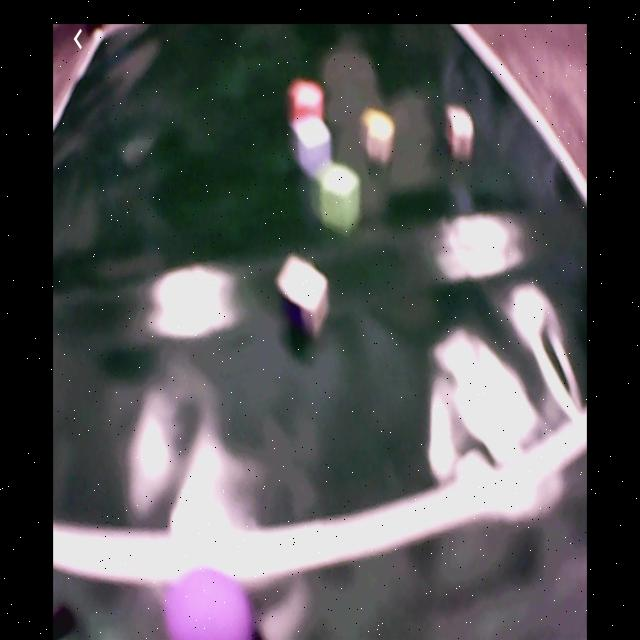ball: (164, 566, 254, 640)
